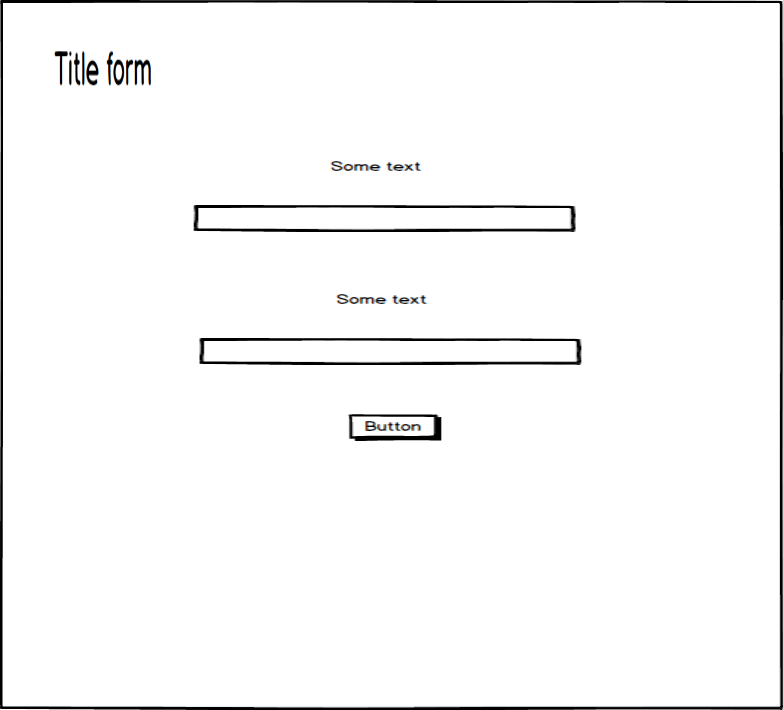button: (345, 411, 447, 445)
h1: (49, 43, 159, 91)
input: (189, 201, 581, 239), (195, 336, 591, 370)
label: (323, 152, 430, 182), (323, 286, 436, 310)
